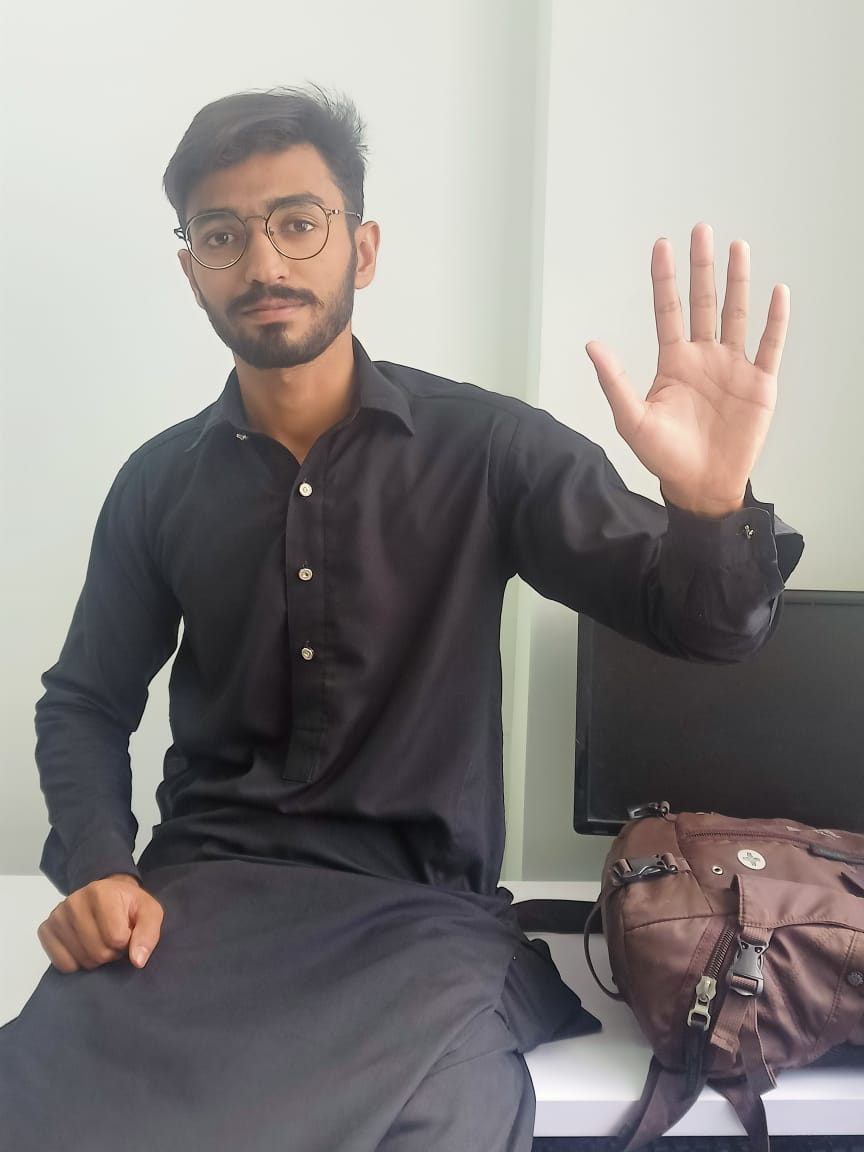Hello: (561, 230, 852, 509)
